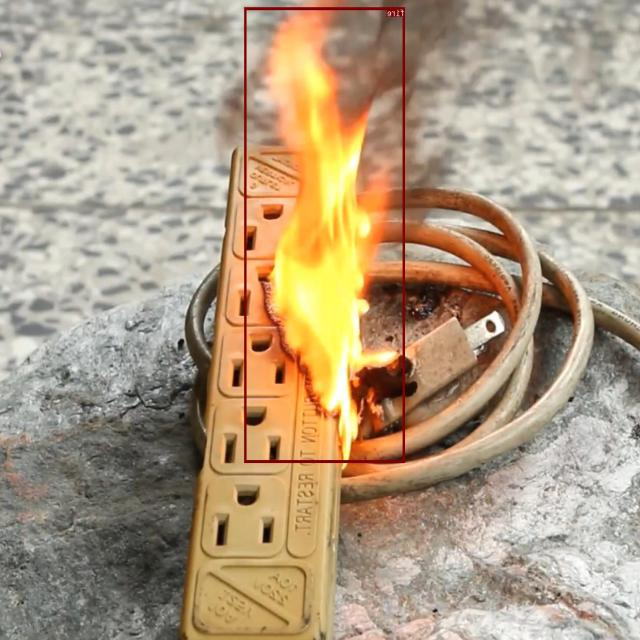fire: (245, 7, 405, 462)
